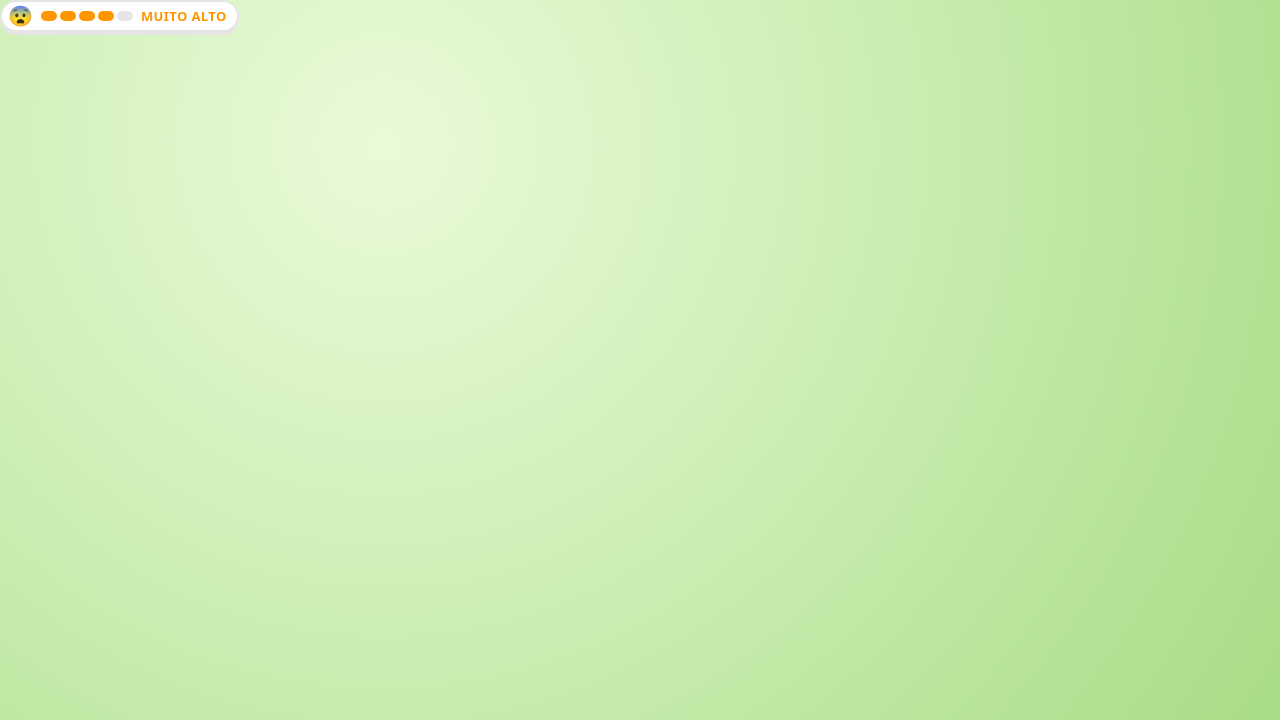
DangerScale balloon (SCALE-03) › tap shows the justification and the scale note, with Fonte
Step 1. Click the button with aria-label "Celulares" → (119, 16), box [0,0,239,32]
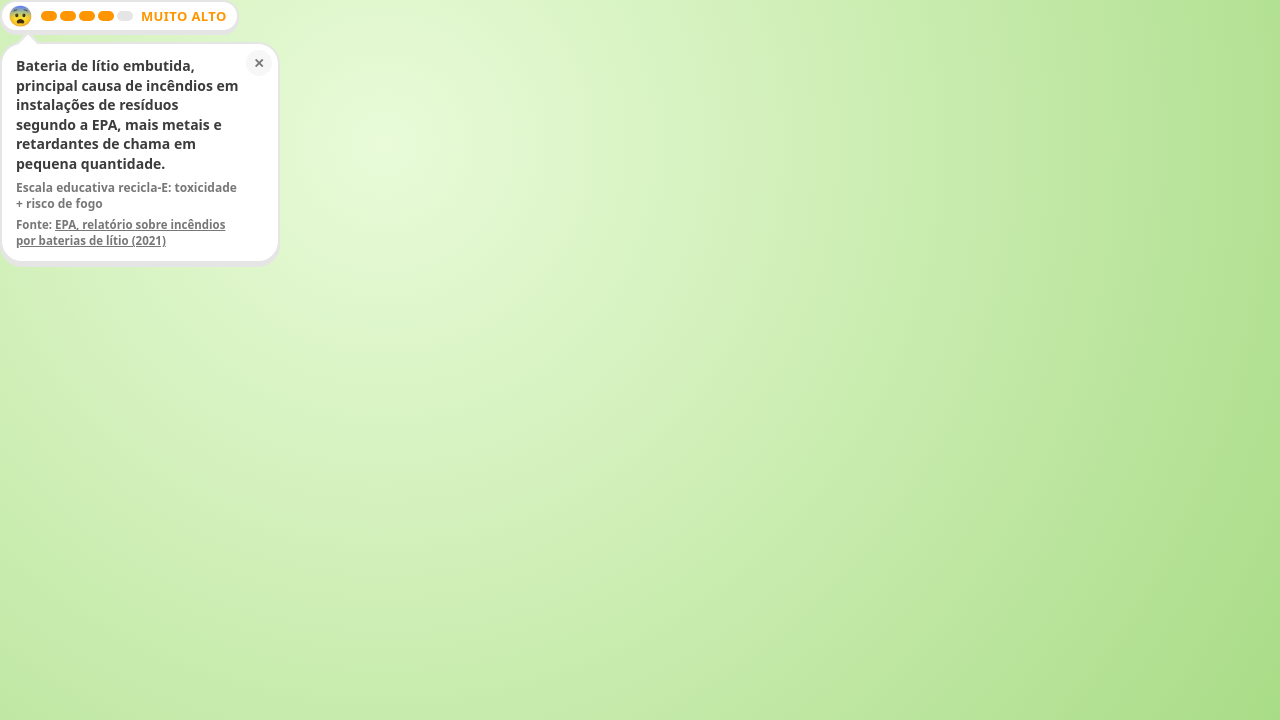
Check: the text "Bateria de lítio embutida, principal causa de incêndios em instalações de resíduos segundo a EPA, mais metais e retardan" is shown, box [16,56,239,173]
Check: the text "Escala educativa recicla-E: toxicidade + risco de fogo" is shown, box [16,180,242,213]
Check: the element with test id "fonte" shows "Fonte:", box [16,217,55,232]
